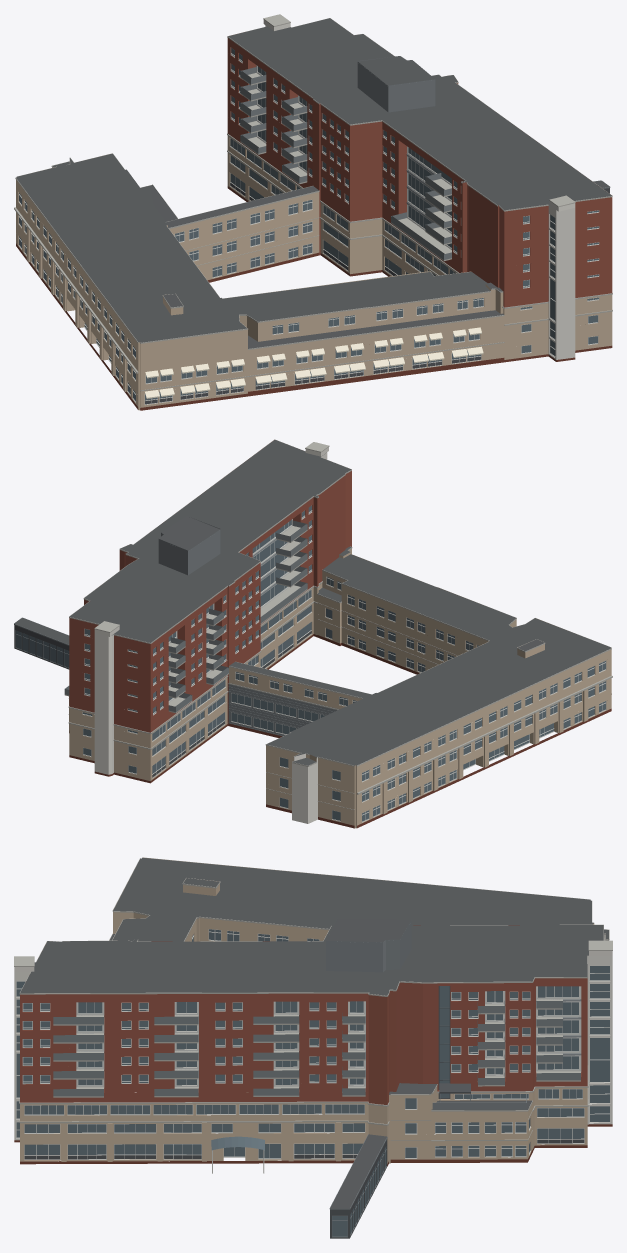
The model's file is kramatplantsoen-203.glb.
3 renders of one model, top to bottom at view 1: azimuth 30°, elevation 25°; view 2: azimuth 150°, elevation 25°; view 3: azimuth 270°, elevation 25°, orthographic. The views are drawn at different scales.
Visible parts, largest first — view 1: kramatplantsoen-203; view 2: kramatplantsoen-203; view 3: kramatplantsoen-203.
Boxes of the visible parts, x1=… form: kramatplantsoen-203: x1=14, y1=14, x2=612, y2=410; kramatplantsoen-203: x1=14, y1=439, x2=612, y2=828; kramatplantsoen-203: x1=14, y1=857, x2=612, y2=1238.
Size of the model in its own units: 100 by 30.71 by 82.9.
